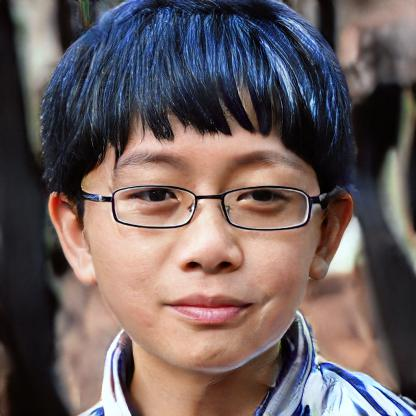glasses: (90, 179, 327, 234)
